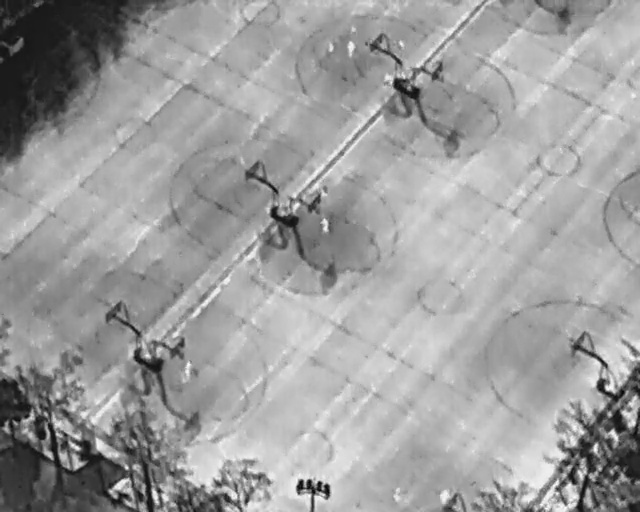Person: (320, 215, 330, 234), (347, 38, 356, 56), (185, 359, 192, 381), (320, 185, 328, 202), (328, 40, 335, 53)
